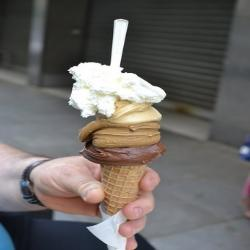icecream: (65, 59, 172, 178)
